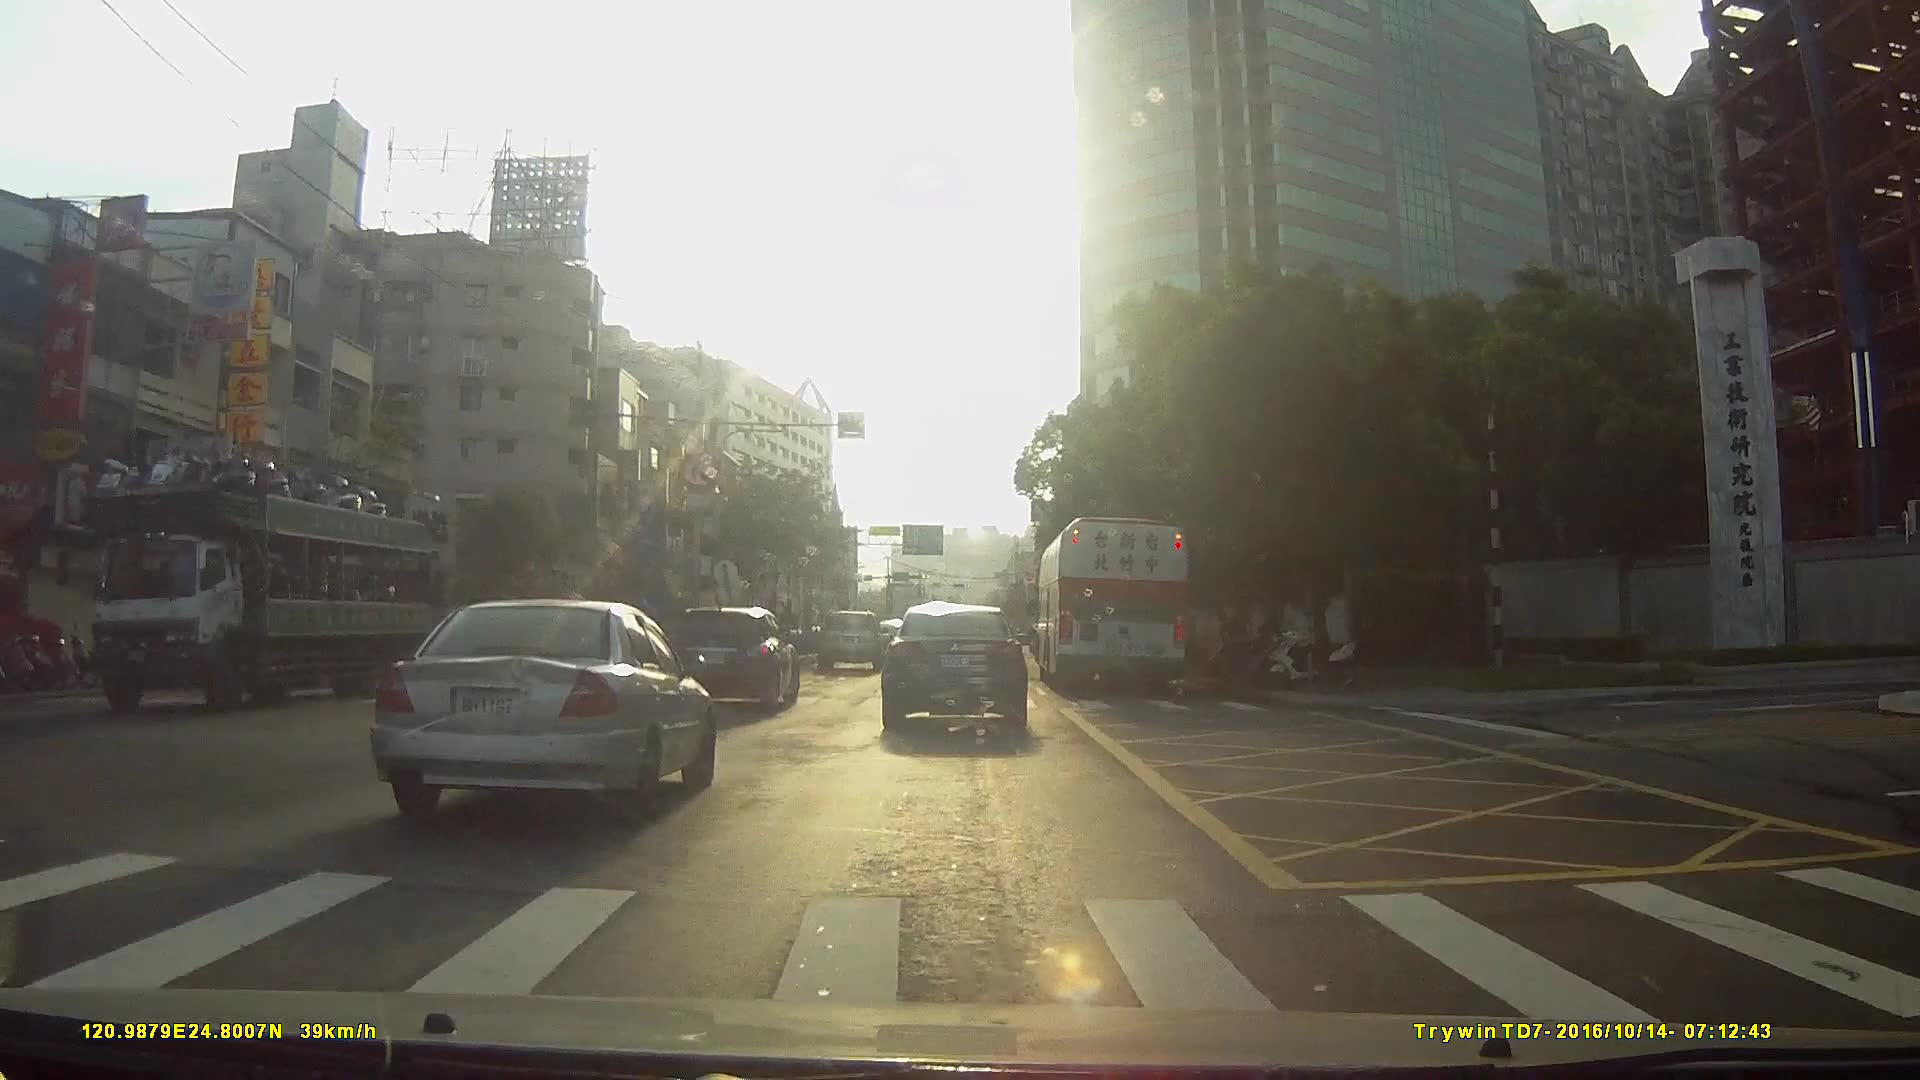vehicle: (88, 436, 438, 720), (363, 595, 712, 822), (1040, 510, 1196, 698), (880, 601, 1030, 738), (666, 604, 800, 711), (816, 608, 887, 673)
